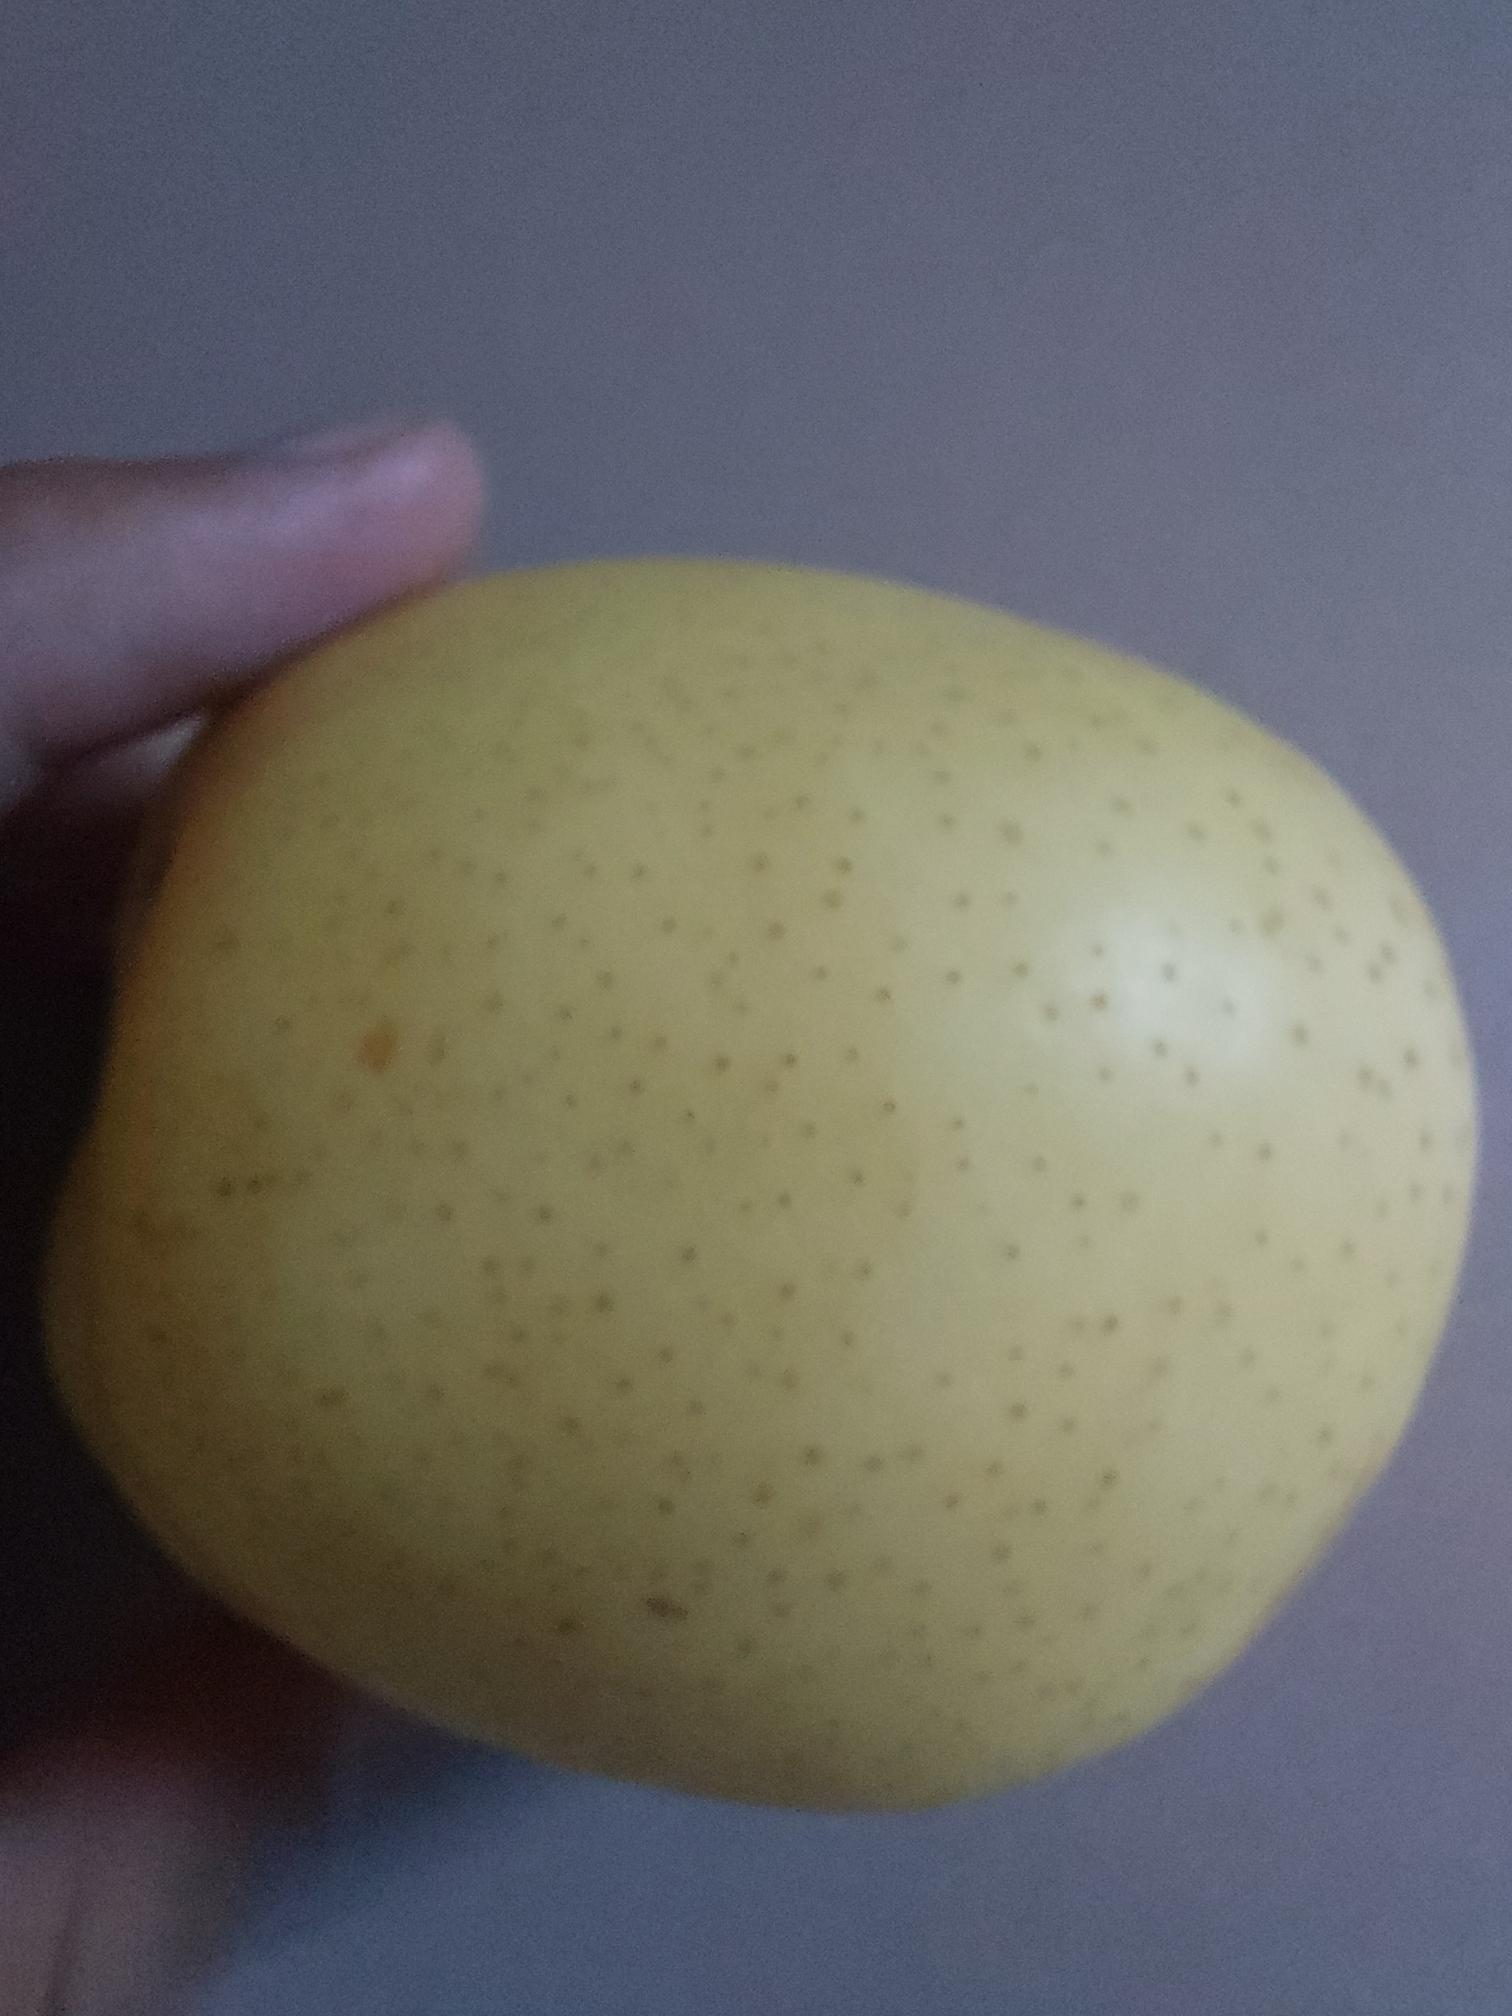Good Pear: (41, 540, 1498, 1814)
